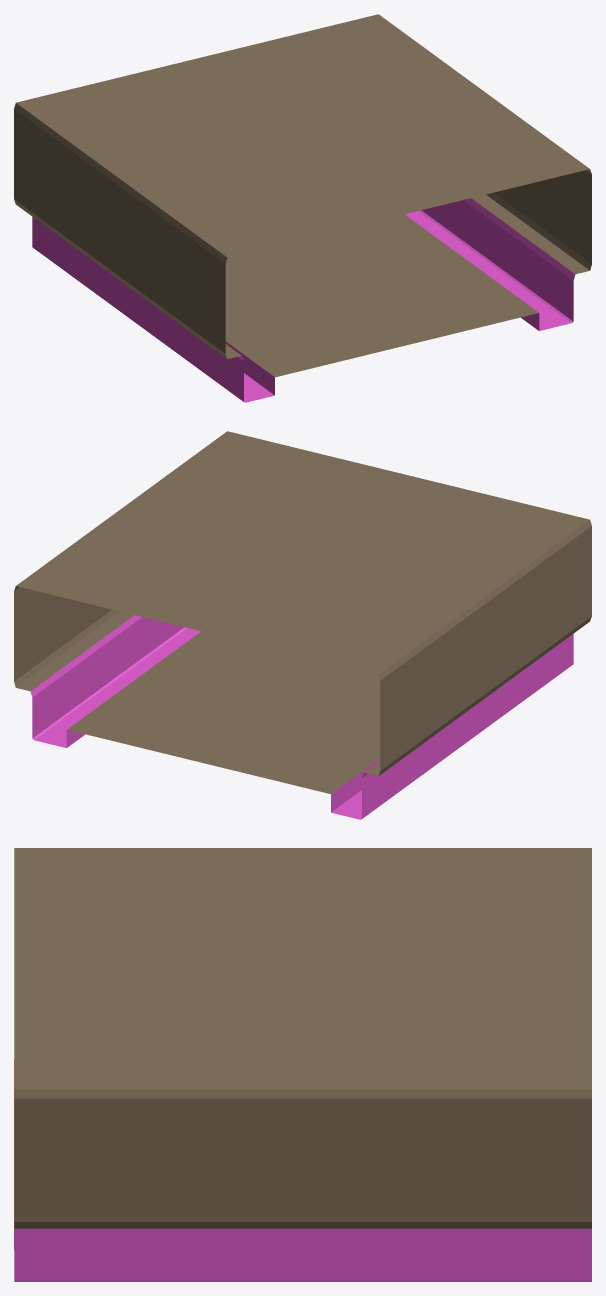
File: SimuDoorTop.fbx
3 renders of one model, top to bottom at view 1: azimuth 30°, elevation 25°; view 2: azimuth 150°, elevation 25°; view 3: azimuth 270°, elevation 25°, orthographic. The views are drawn at different scales.
Visible parts, largest first — view 1: OpenSimu.001; view 2: OpenSimu.001; view 3: OpenSimu.001.
Part boxes in pixels (x1,y1,x2,y2): OpenSimu.001: (14, 14, 591, 402); OpenSimu.001: (14, 431, 591, 819); OpenSimu.001: (14, 848, 591, 1281).
Bounding box in the file's own units: 200 × 78.09 × 200.
